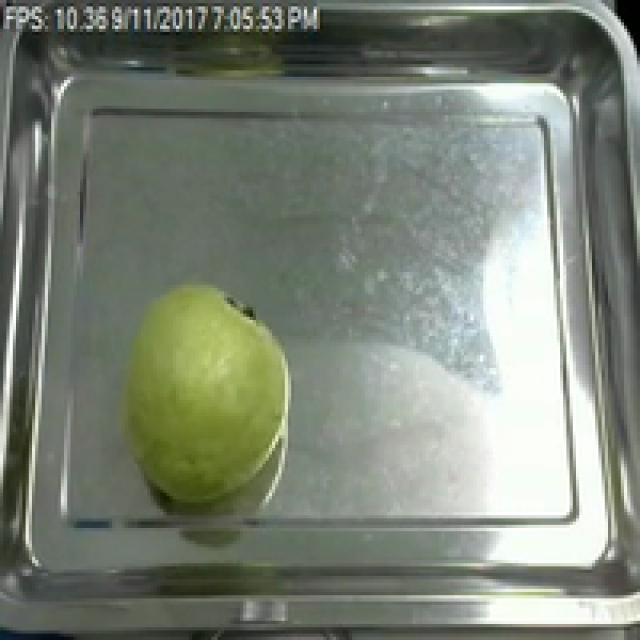Fruit: (102, 272, 308, 512)
